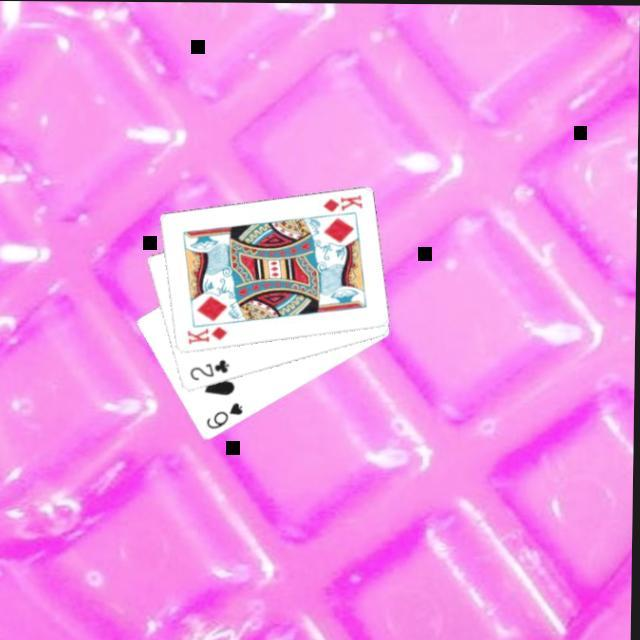2C: (186, 356, 232, 384)
6S: (203, 401, 246, 434)
KD: (183, 323, 231, 348), (320, 192, 364, 216)
